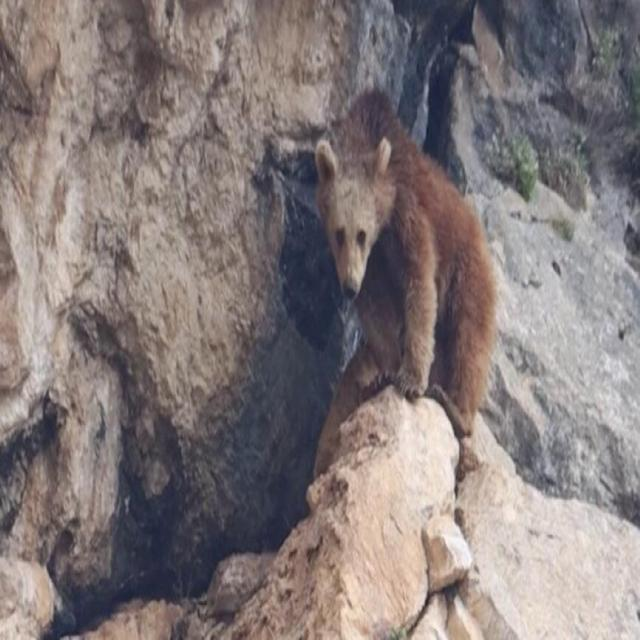Bear: (314, 89, 504, 487)
